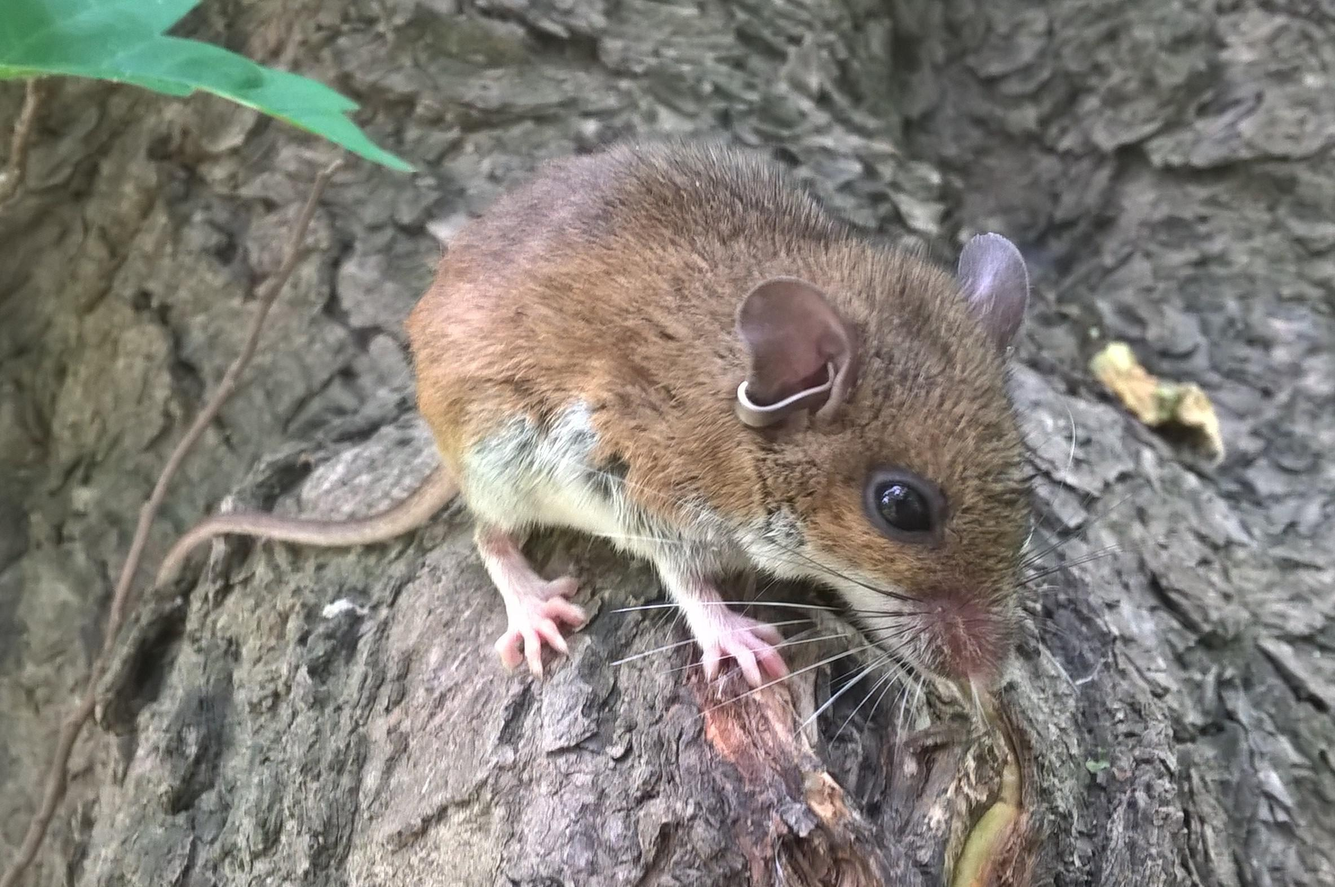rat: (153, 142, 1029, 687)
